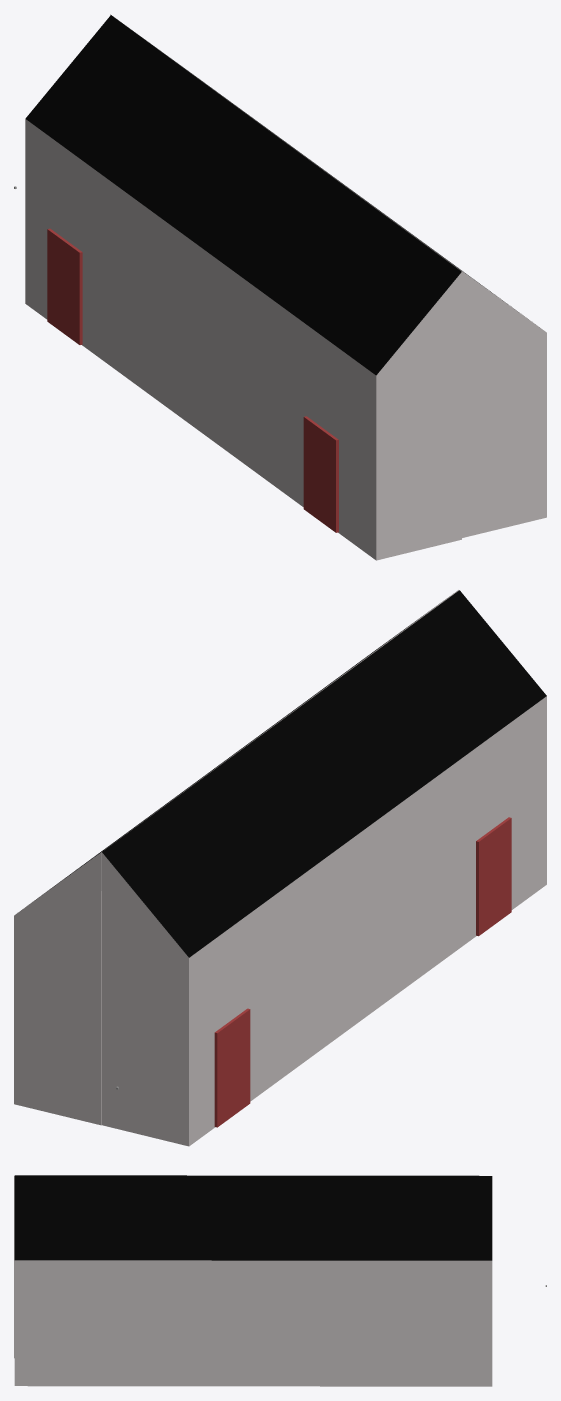
The model's file is Kennel.fbx.
3 views of the same model, one above another, from view 1: azimuth 30°, elevation 25°; view 2: azimuth 150°, elevation 25°; view 3: azimuth 270°, elevation 25° (orthographic). The views are drawn at different scales.
Visible parts, largest first — view 1: pCube9; view 2: pCube9; view 3: pCube9.
Part boxes in pixels (left/top/right/bottom): pCube9: left=25, top=14, right=546, bottom=560; pCube9: left=14, top=590, right=546, bottom=1146; pCube9: left=14, top=1175, right=492, bottom=1386.
Bounding box in the file's own units: 98.48 × 145 × 384.
